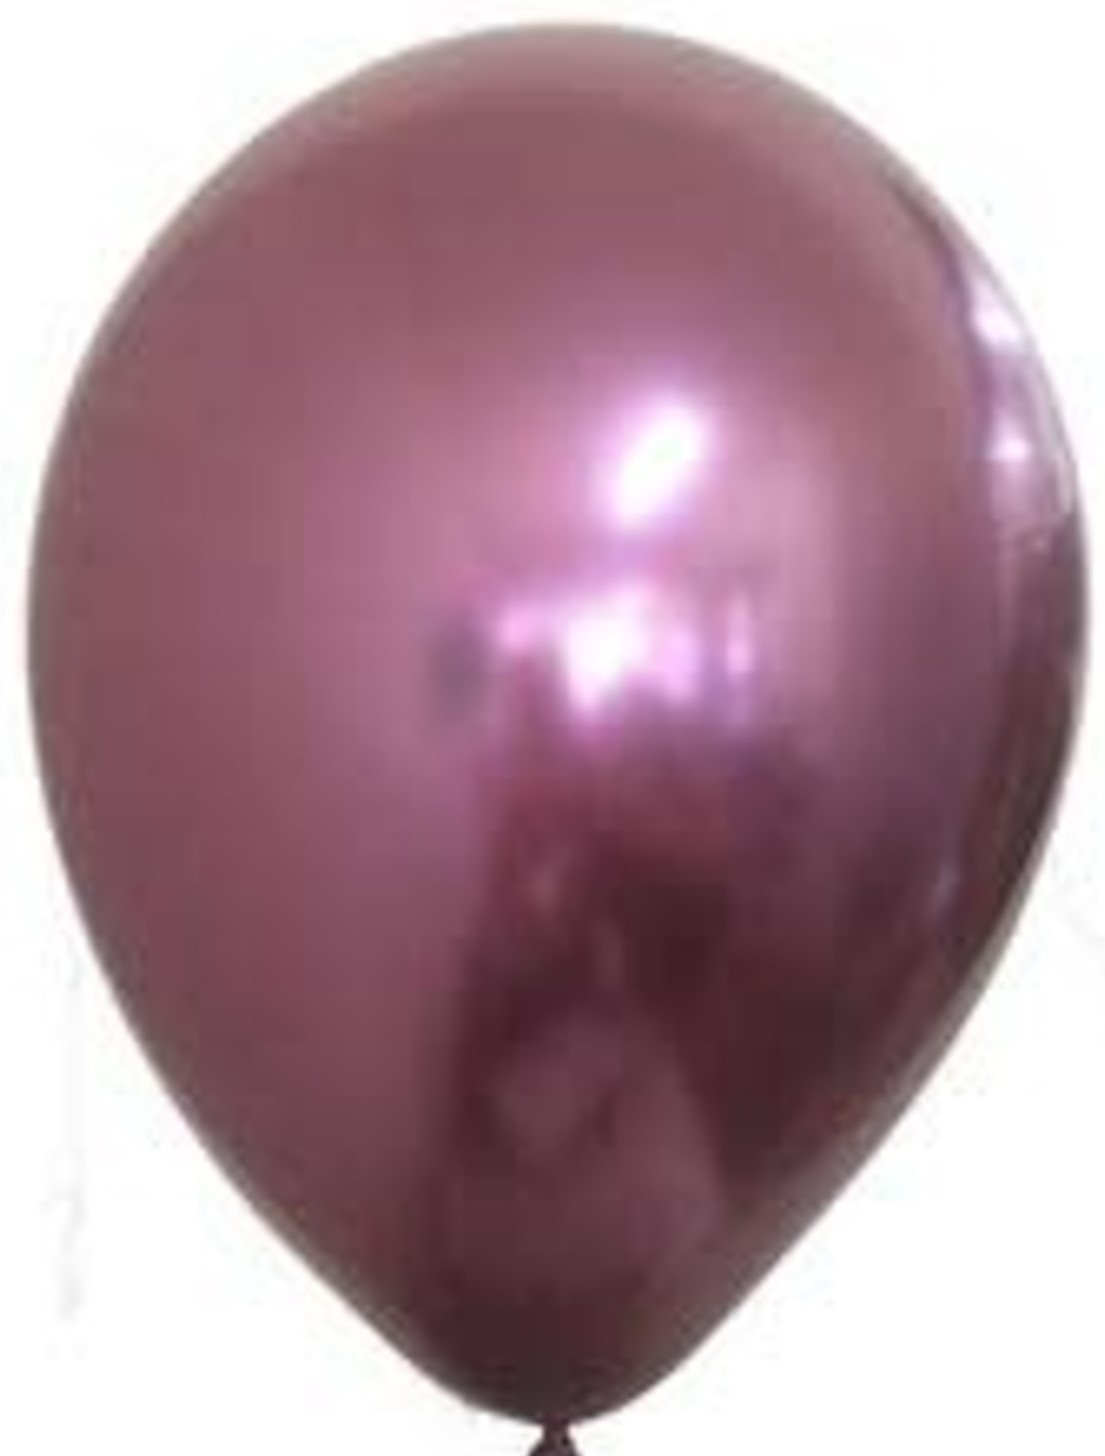Balloon: (30, 23, 1095, 1429)
